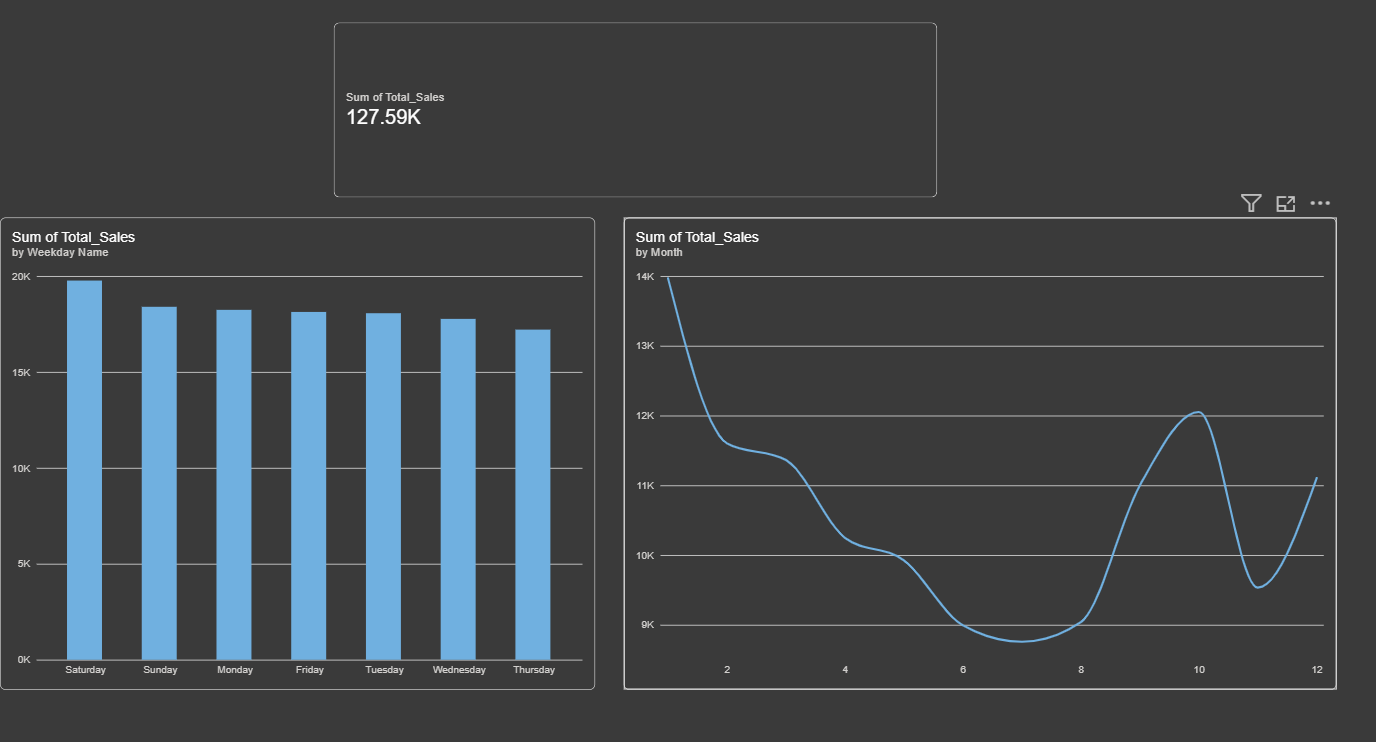

What the dashboard file says about the page in this screenshot:
{"tool":"powerbi","page":{"name":"Page 1","canvas":[1920,1080],"ordinal":0},"visuals":[{"type":"cardVisual","fields":{"Data":["Sum(salesdaily.Total_Sales)"]},"box":[465.7,31.4,842.4,244.2],"z":0},{"type":"clusteredColumnChart","fields":{"Category":["salesdaily.Weekday Name"],"Y":["Sum(salesdaily.Total_Sales)"]},"box":[0,303.5,830.2,659.3],"z":1},{"type":"lineChart","fields":{"Category":["salesdaily.Month"],"Y":["Sum(salesdaily.Total_Sales)"]},"box":[870.4,303.5,994.2,659.3],"z":2}]}

Visuals, with their boxes on the page's 1920x1080 design canvas (x1, y1, x2, y2). These are canvas units, not pixel positions in the 1376x742 screenshot, which may show the page scaled, cropped or inside an application window:
cardVisual - Sum(salesdaily.Total_Sales): bbox(466, 31, 1308, 276)
clusteredColumnChart - salesdaily.Weekday Name x Sum(salesdaily.Total_Sales): bbox(0, 304, 830, 963)
lineChart - salesdaily.Month x Sum(salesdaily.Total_Sales): bbox(870, 304, 1865, 963)
